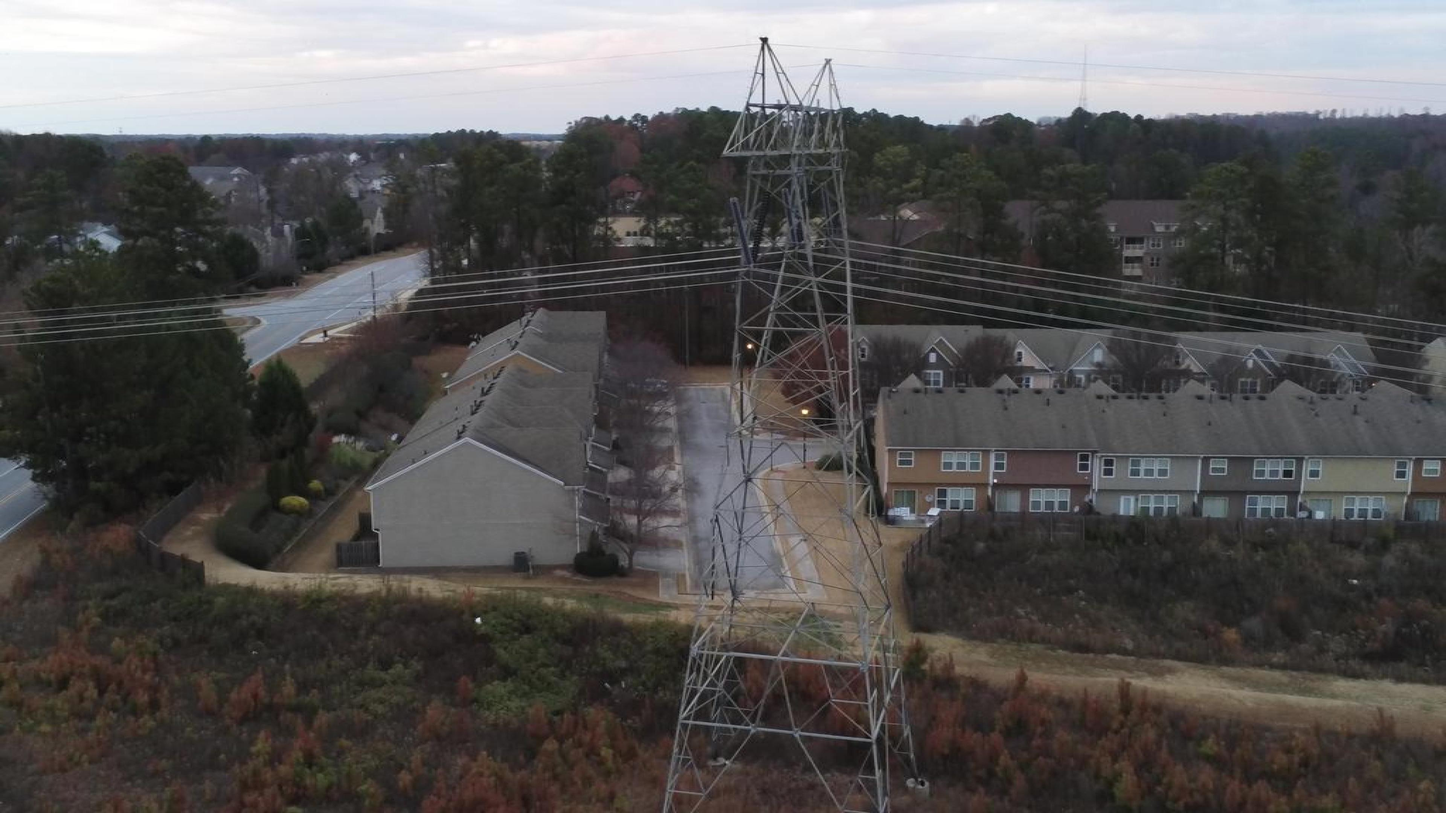power_tower: (664, 36, 929, 812)
